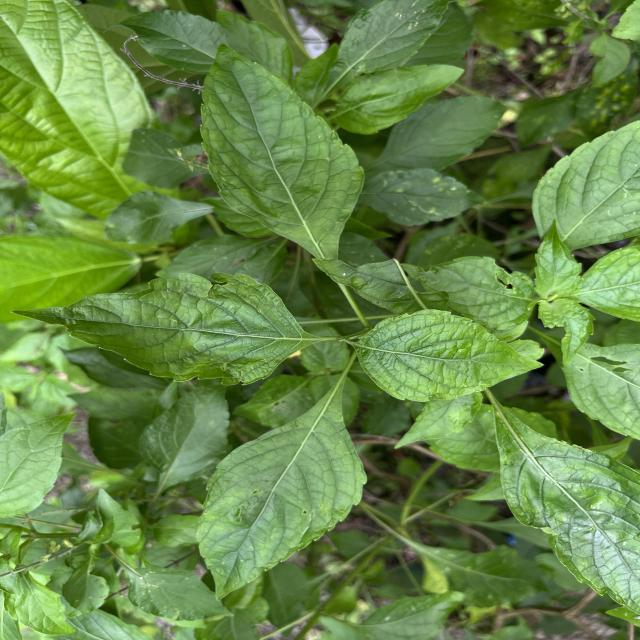Ocimum gratissimum: (194, 389, 372, 606), (8, 267, 314, 389), (195, 42, 368, 256), (489, 398, 640, 622), (346, 306, 546, 406)
